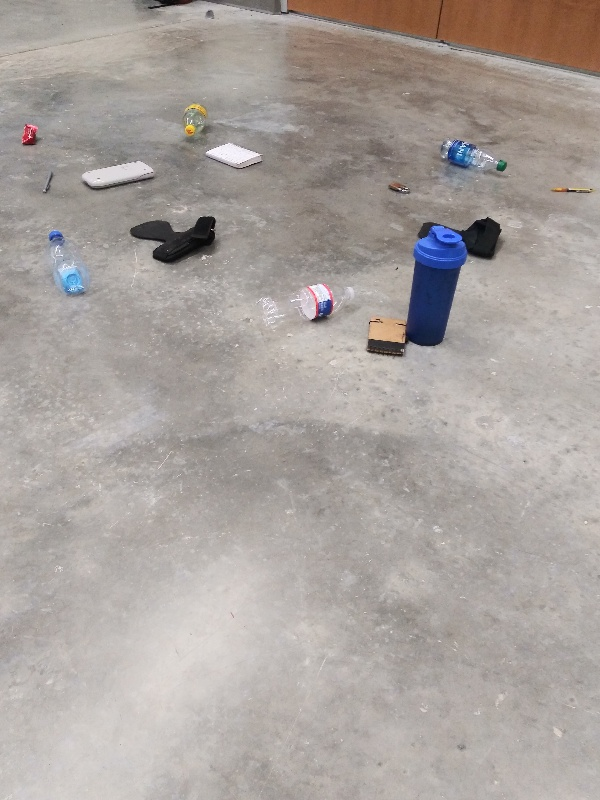bottle: (249, 280, 364, 330), (41, 225, 92, 301), (433, 135, 510, 179), (179, 97, 215, 142)
